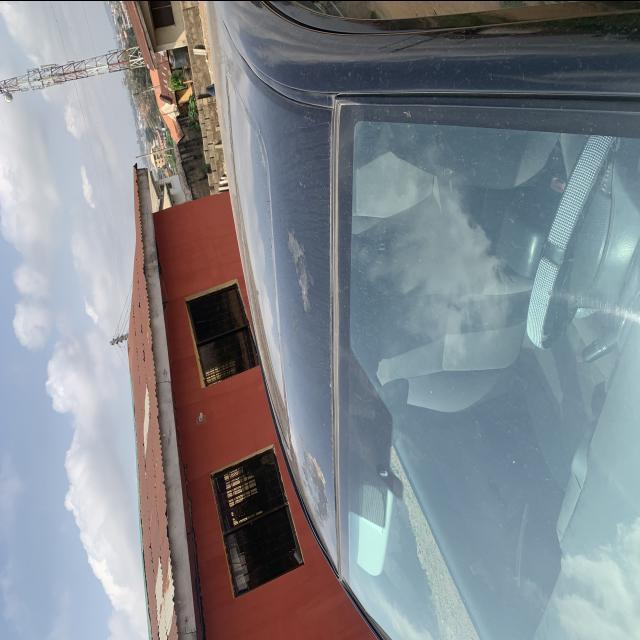paint-chip: (282, 218, 324, 320), (297, 443, 330, 533)
